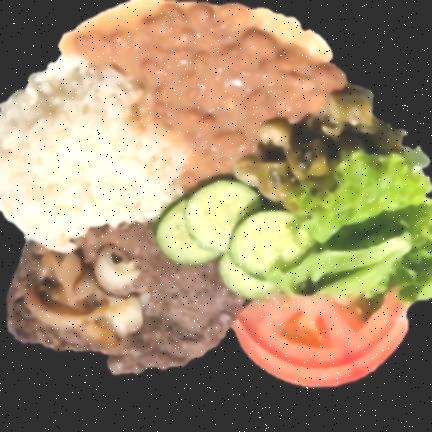beans: (71, 1, 346, 187)
cucumber: (157, 178, 306, 298)
green_vegetables: (234, 87, 401, 204)
meat: (8, 222, 245, 373)
rice: (0, 55, 187, 250)
salad: (268, 150, 431, 302)
tomato: (233, 292, 408, 386)
